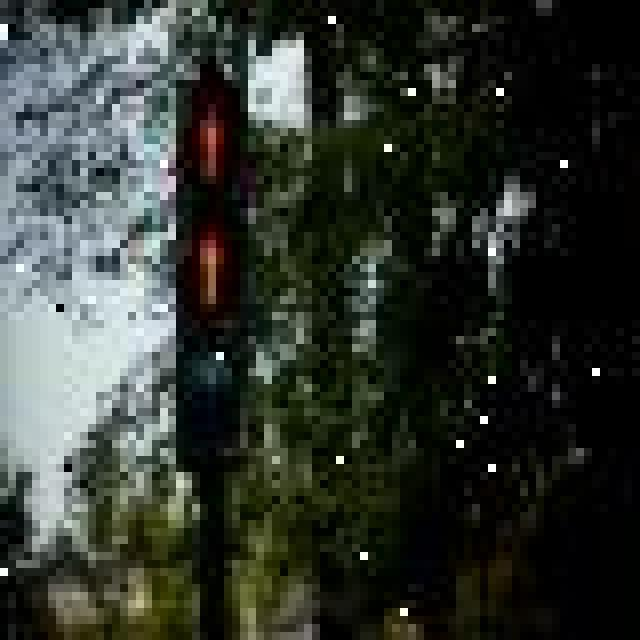redlight: (165, 207, 259, 475)
